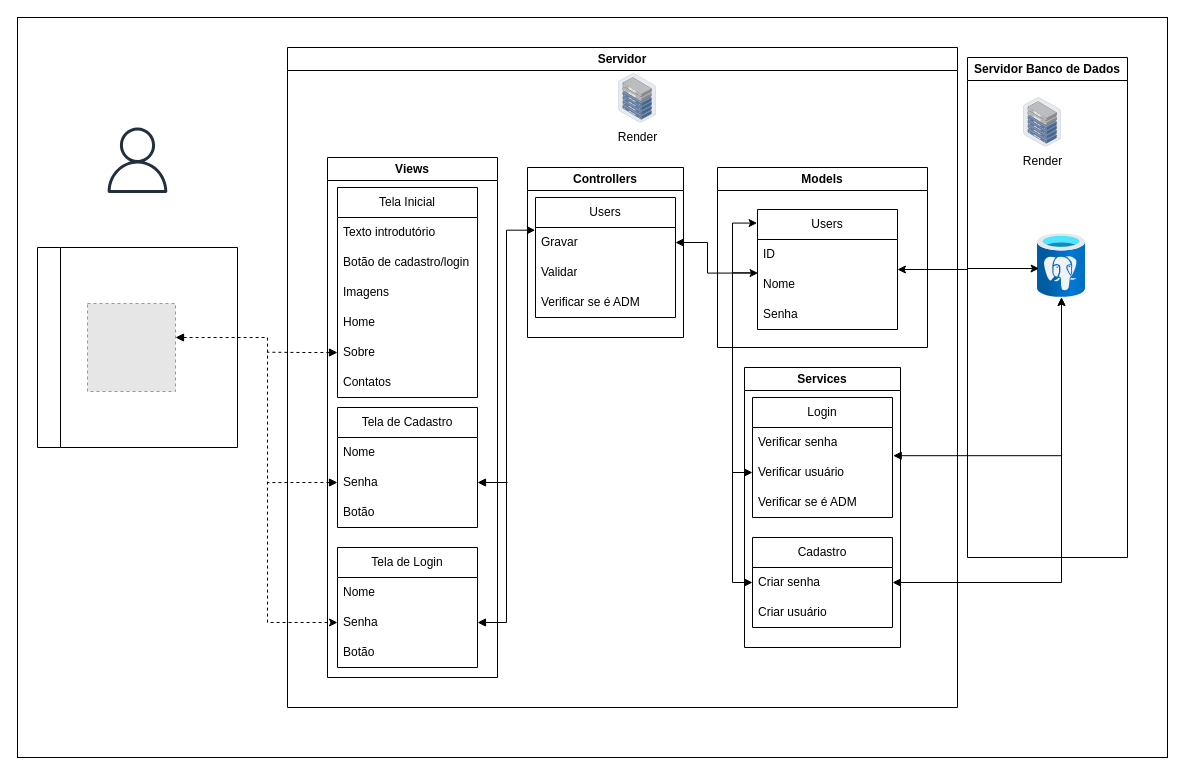
Image size: 1185x775. Some labels were removed from this diagram. Grey dashed boxes stand in for pictures. Here are the shapes that lost their labels. From the top down, the centre of each, then its label:
At (137,160): "Usuário".
At (137,347): "Cliente".
